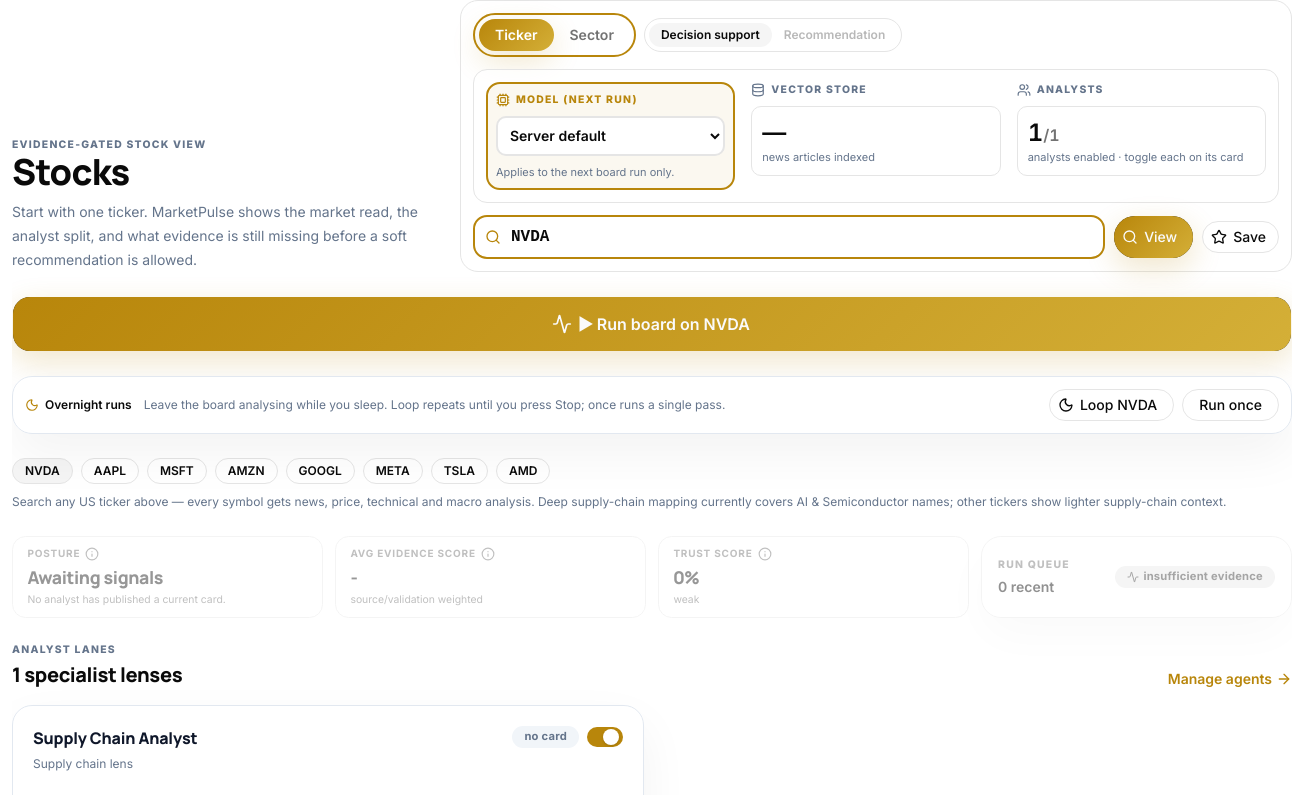
Test: TickerBoard › explains provider quota failures in active run progress
Click the button "▶ Run board on NVDA". click: (652, 324)
box: left=12, top=296, right=1292, bottom=352
(page scrolled)
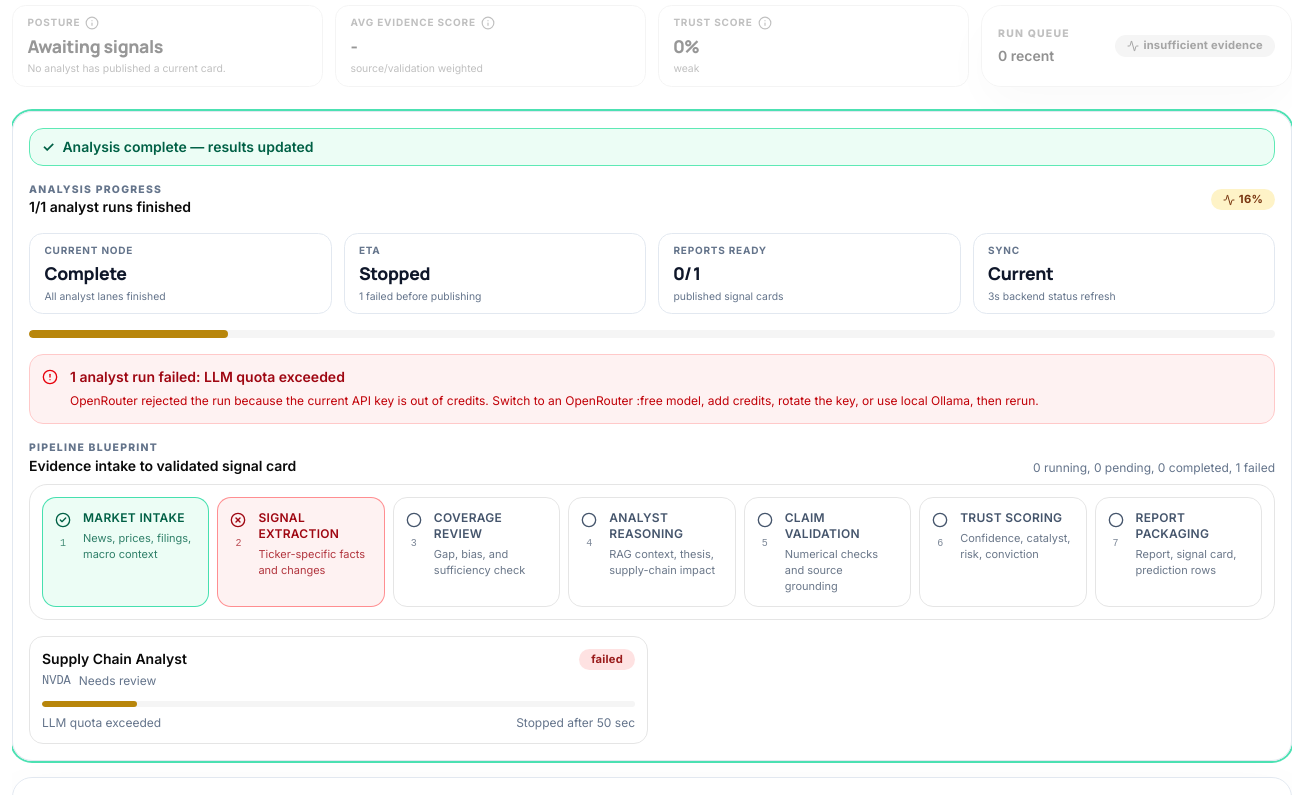
Expected: the text "1 analyst run failed: LLM quota exceeded" is shown, left=70, top=368, right=345, bottom=385
Expected: the text "current API key is out of credits" is shown, left=70, top=393, right=1039, bottom=408
